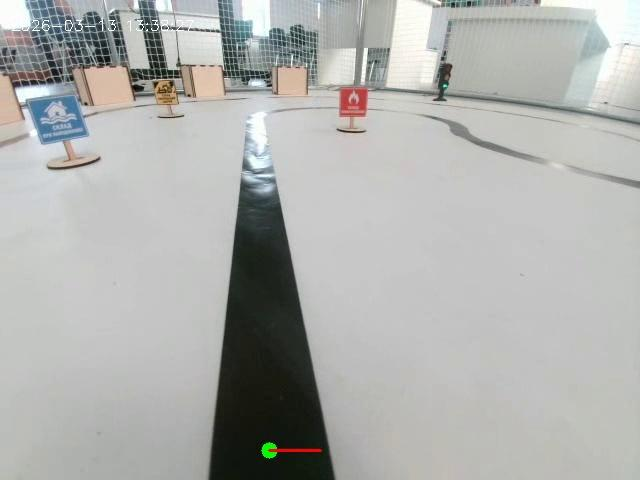fire: (326, 78, 376, 131)
flood: (34, 98, 97, 176)
industrial: (143, 77, 184, 124)
